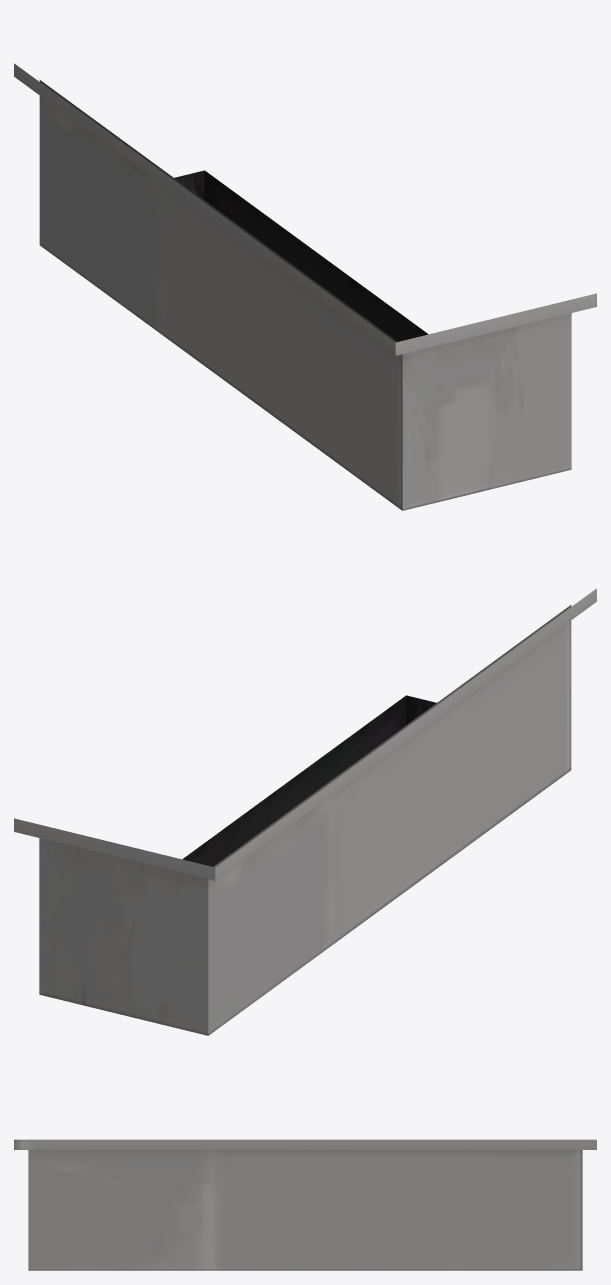
3 renders of one model, top to bottom at view 1: azimuth 30°, elevation 25°; view 2: azimuth 150°, elevation 25°; view 3: azimuth 270°, elevation 25°, orthographic. The views are drawn at different scales.
Visible parts, largest first — view 1: body0_model0_lod0_mesh0; view 2: body0_model0_lod0_mesh0; view 3: body0_model0_lod0_mesh0.
Boxes of the visible parts, <box> form: body0_model0_lod0_mesh0: <box>14,63,596,510</box>; body0_model0_lod0_mesh0: <box>14,588,596,1035</box>; body0_model0_lod0_mesh0: <box>14,1139,596,1270</box>.
Bounding box in the file's own units: 20.78 × 17.68 × 68.2.
1 material, 1 textured.
